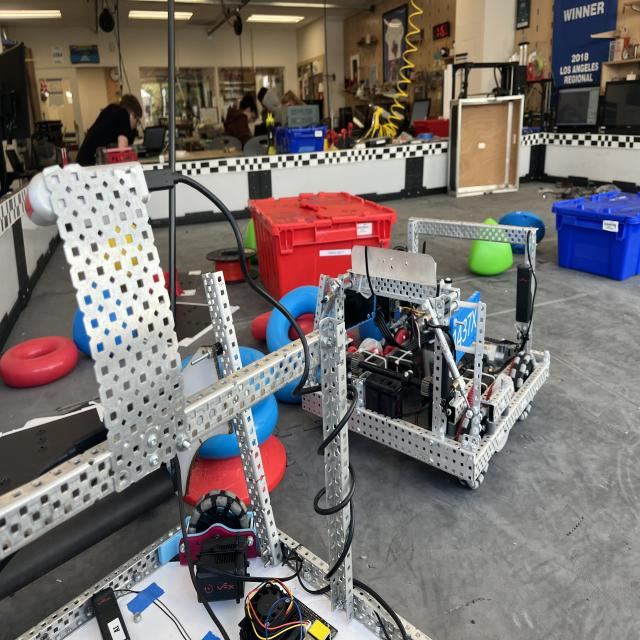Blue-Ring: (178, 347, 277, 451), (266, 284, 334, 381)
Red-Ring: (189, 435, 287, 506), (0, 337, 79, 388)
